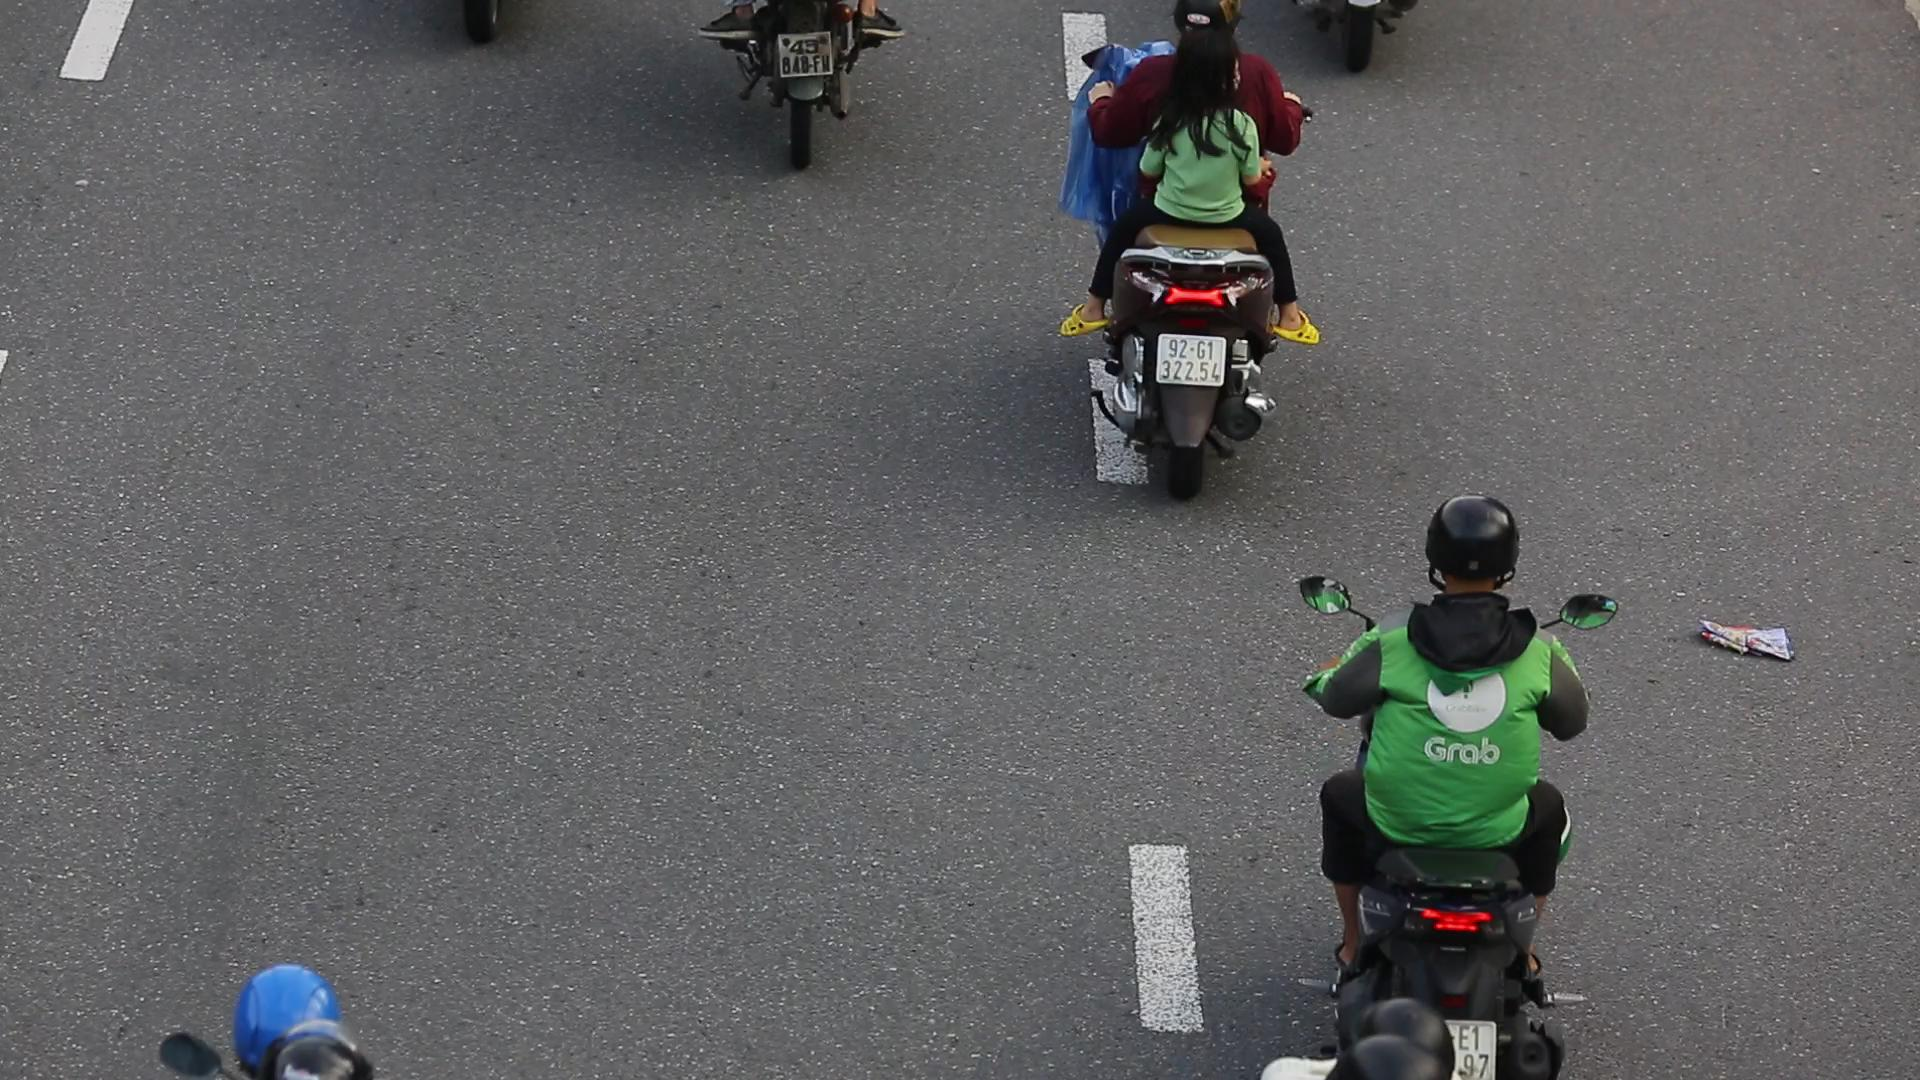motobike: (1048, 0, 1321, 509)
